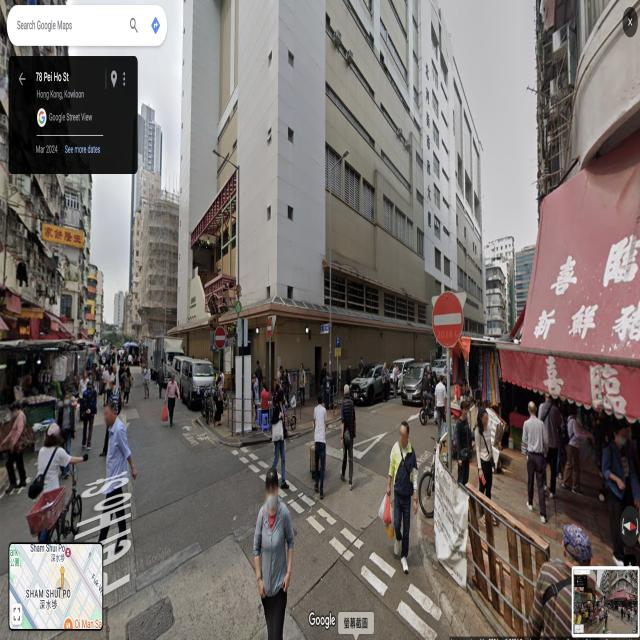Order-Sign: (432, 294, 463, 348), (214, 326, 226, 350), (266, 318, 272, 340)
